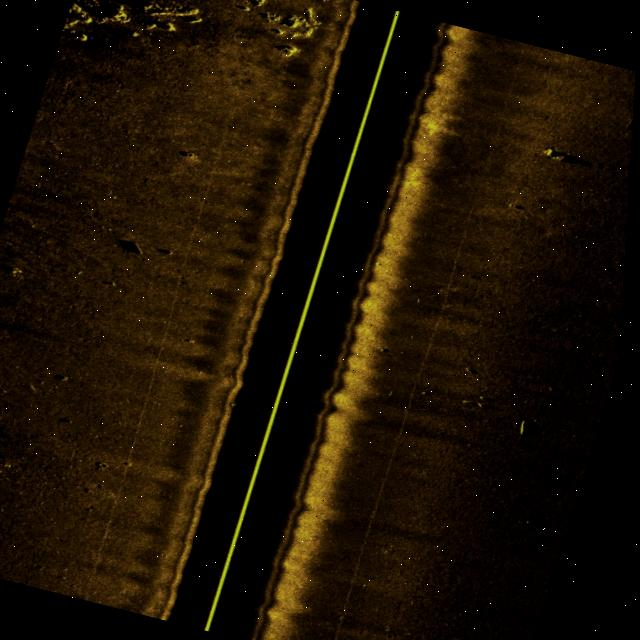mine: (113, 233, 151, 259), (518, 416, 547, 442), (179, 10, 205, 26)
